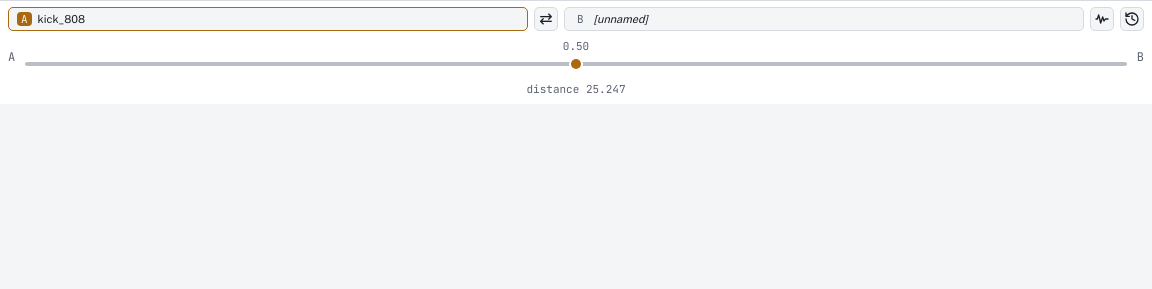
Test: MorphStrip opened out › draws the slider's point as soon as both ends are chosen, and plays nothing
Expected: the text "kick_808" is shown, [38,13,85,25]
Step 1. Click the button named "Waveform" → [1102, 19], box [1090,7,1114,31]
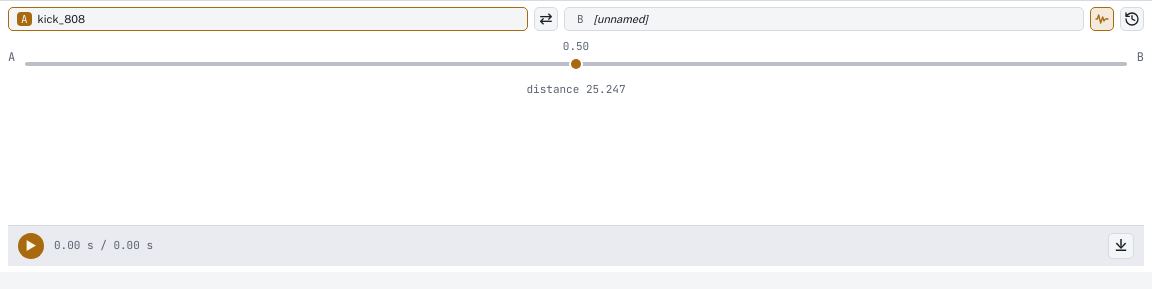
Expected: the button named "Play the morph" is enabled, [18,233,44,259]
